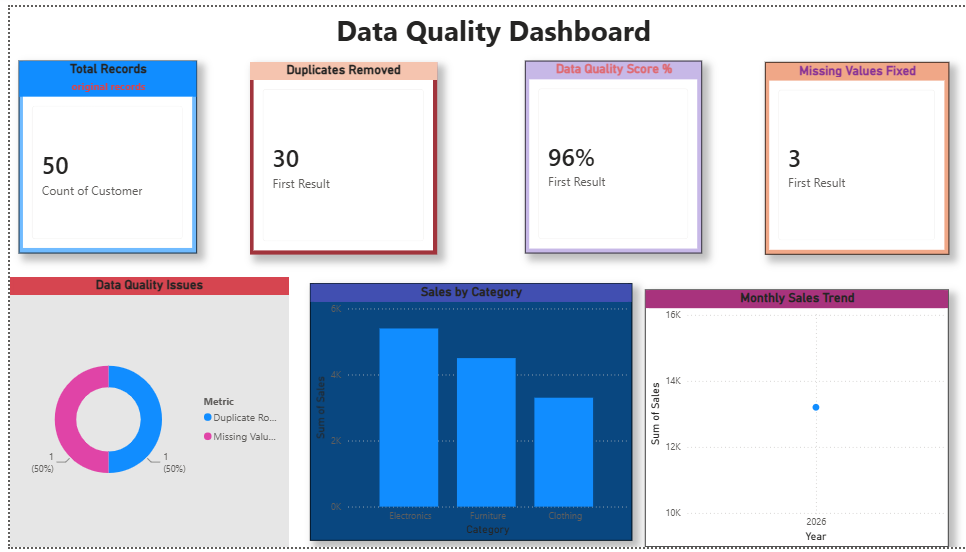

Layout of this report page (visuals, bound fields, positions):
{"tool":"powerbi","page":{"name":"Page 1","canvas":[1280,720],"ordinal":0},"visuals":[{"type":"textbox","box":[127.6,0,1033.3,71.4],"z":0},{"type":"cardVisual","title":"Total Records","fields":{"Data":["CountNonNull(Raw_Data.Customer)"]},"box":[12.3,71.4,237.4,256.6],"z":3},{"type":"cardVisual","title":"Duplicates Removed","fields":{"Data":["Min(Data_Quality_Report.Result)"]},"box":[319.7,74.1,249.7,256.6],"z":4},{"type":"cardVisual","title":"Missing Values Fixed","fields":{"Data":["Min(Data_Quality_Report.Result)"]},"box":[1005.8,72.7,245.6,256.6],"z":5},{"type":"cardVisual","title":"Data Quality Score %","fields":{"Data":["Min(Data_Quality_Report.Result)"]},"box":[686.1,71.4,236,256.6],"z":6},{"type":"donutChart","title":"Data Quality Issues","fields":{"Y":["CountNonNull(Data_Quality_Report.Result)"],"Category":["Data_Quality_Report.Metric"]},"box":[0,359.5,371.9,360.9],"z":7},{"type":"clusteredColumnChart","title":"Sales by Category","fields":{"Category":["Cleaned_Data.Category"],"Y":["Sum(Cleaned_Data.Sales)"]},"box":[399.3,369.1,429.5,343.1],"z":8},{"type":"lineChart","title":"Monthly Sales Trend","fields":{"Category":["Cleaned_Data.Date.Variation.Date Hierarchy.Year","Cleaned_Data.Date.Variation.Date Hierarchy.Quarter","Cleaned_Data.Date.Variation.Date Hierarchy.Month","Cleaned_Data.Date.Variation.Date Hierarchy.Day"],"Y":["Sum(Cleaned_Data.Sales)"]},"box":[846.7,377.4,404.8,343.1],"z":9}]}

Visuals, with their boxes in screenshot pixels (x1, y1, x2, y2), scaled from the page's 1280x720 canvas onto the 966x552 screenshot:
textbox: bbox(96, 0, 876, 55)
"Total Records" cardVisual: bbox(9, 55, 188, 251)
"Duplicates Removed" cardVisual: bbox(241, 57, 430, 254)
"Missing Values Fixed" cardVisual: bbox(759, 56, 944, 252)
"Data Quality Score %" cardVisual: bbox(518, 55, 696, 251)
"Data Quality Issues" donutChart: bbox(0, 276, 281, 551)
"Sales by Category" clusteredColumnChart: bbox(301, 283, 625, 546)
"Monthly Sales Trend" lineChart: bbox(639, 289, 944, 551)
